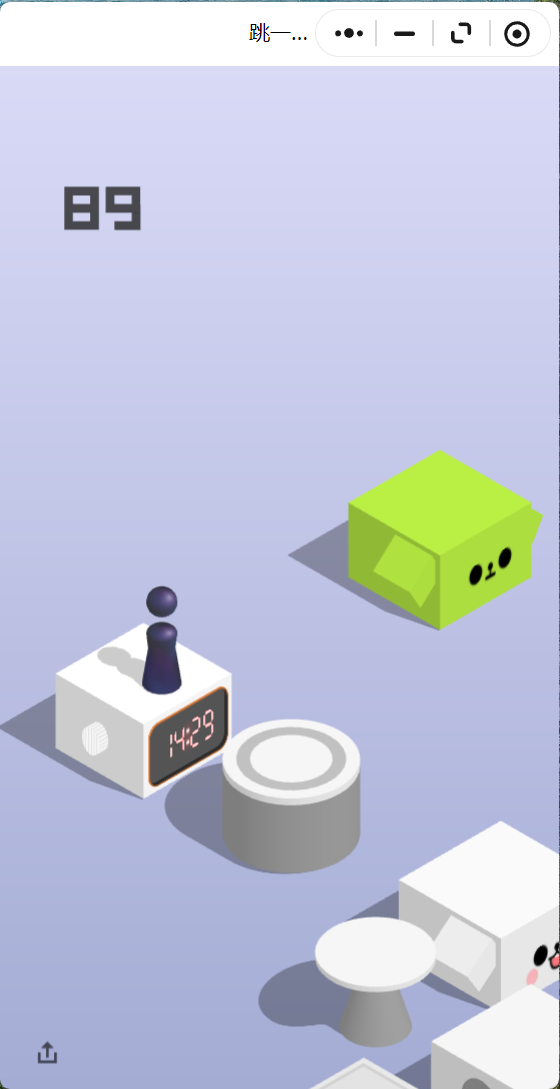piece: (147, 586, 175, 692)
target: (349, 450, 532, 555)
